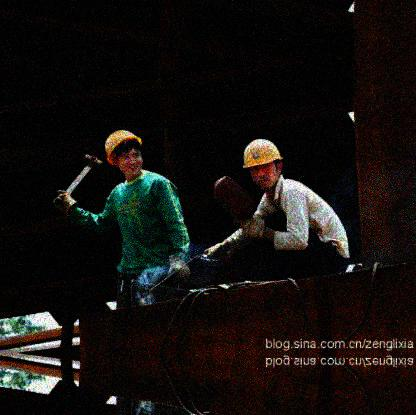helmet: (241, 139, 284, 188), (105, 130, 144, 175)
